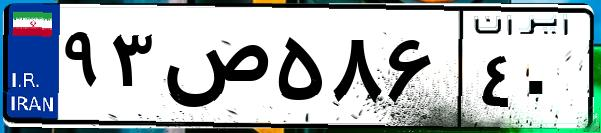0: (525, 38, 570, 115)
3: (110, 28, 158, 98)
4: (475, 38, 525, 113)
5: (270, 28, 330, 110)
6: (385, 28, 445, 110)
8: (330, 28, 385, 110)
9: (57, 26, 110, 100)
ص: (158, 20, 270, 120)
